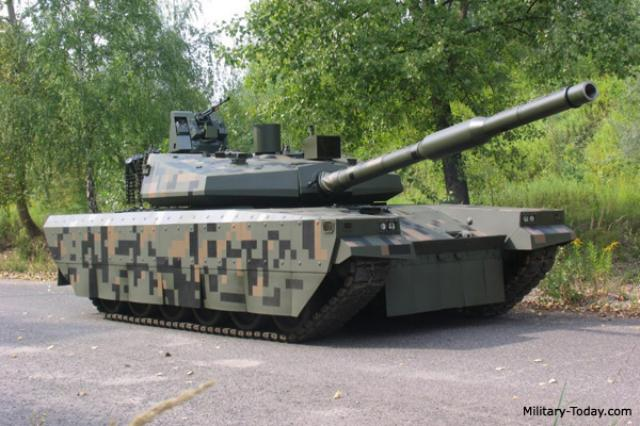tank: (57, 155, 567, 335)
